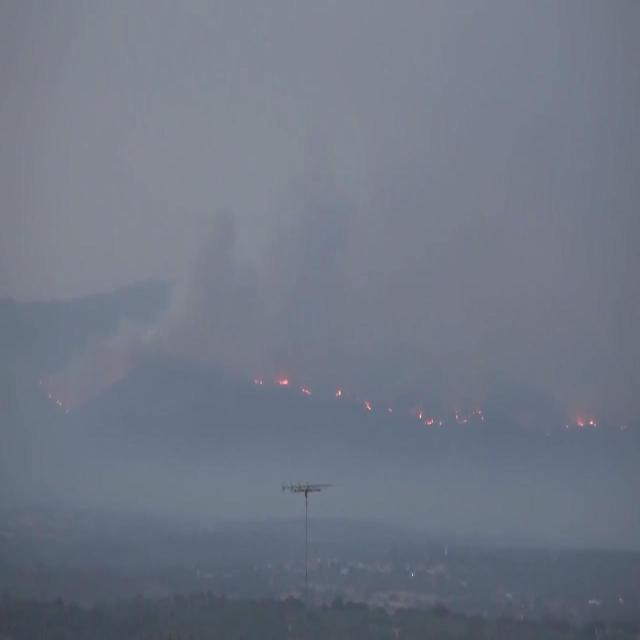Fire: (277, 374, 289, 388), (588, 417, 598, 429), (300, 385, 310, 397), (364, 398, 372, 412), (426, 416, 434, 427), (578, 420, 585, 428), (334, 389, 342, 396), (418, 409, 423, 419)
